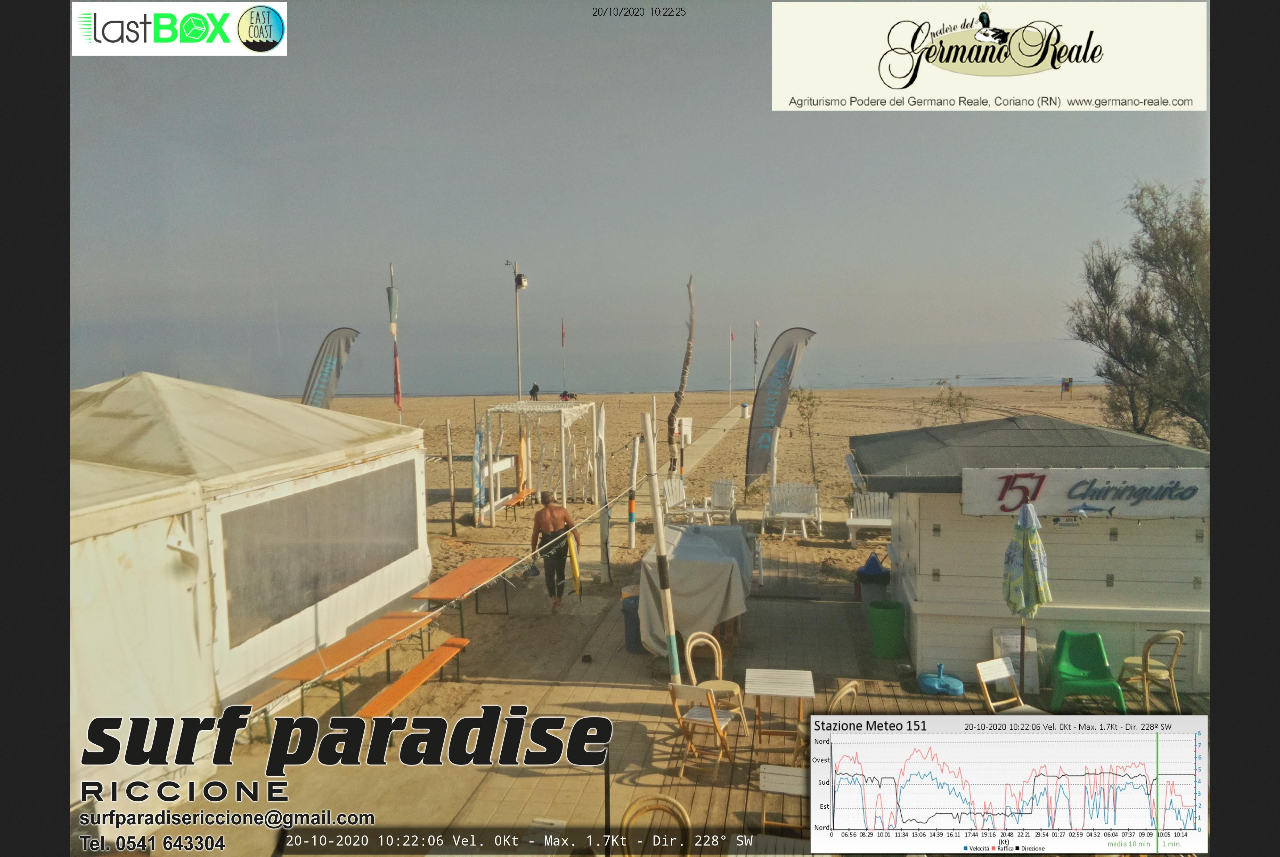no: (382, 288, 407, 419), (748, 325, 762, 366), (557, 315, 570, 344)
